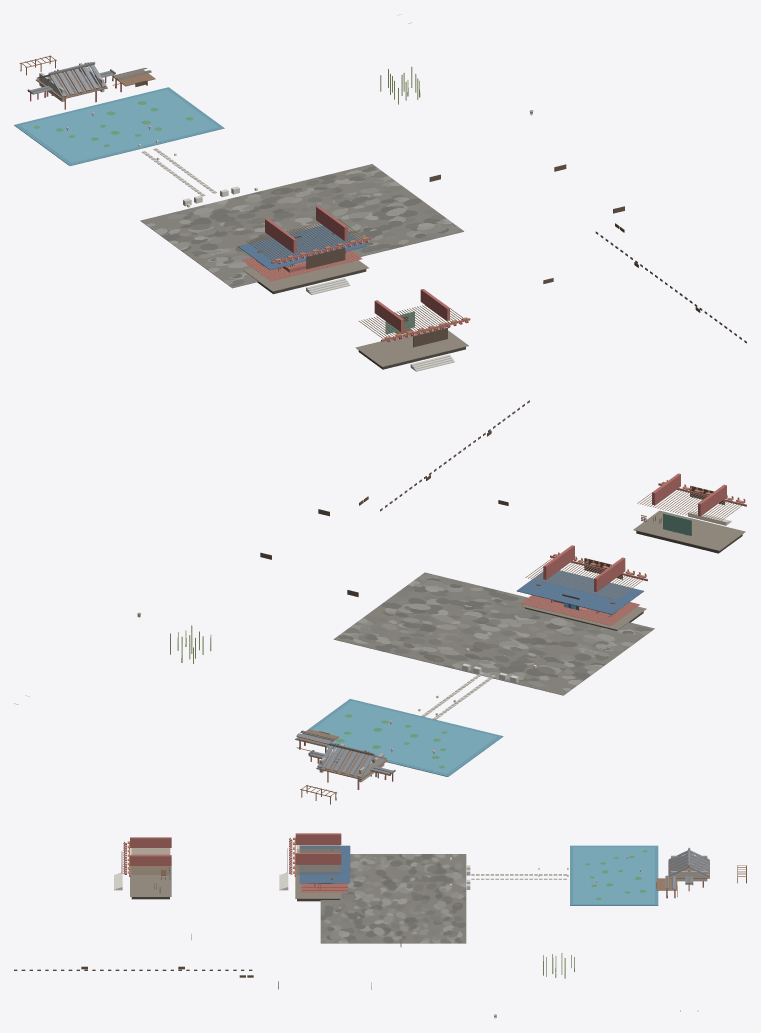
Rendered from tile_2000_-1000.glb.
The picture shows the model from 3 angles, top to bottom: view 1: azimuth 30°, elevation 25°; view 2: azimuth 150°, elevation 25°; view 3: azimuth 270°, elevation 25°; orthographic projection. The views are drawn at different scales.
Parts seen in each view (by area): view 1: tile; view 2: tile; view 3: tile.
Boxes of the visible parts, x1,y1,x2,y2 form: tile: [14, 14, 746, 371]; tile: [14, 400, 746, 804]; tile: [14, 833, 746, 1018].
Size of the model in its own units: 172 by 22.1 by 332.
Materials: 45 (1 with a texture image).
